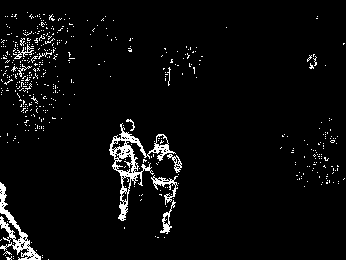person: (153, 127, 186, 236), (110, 115, 142, 223)
